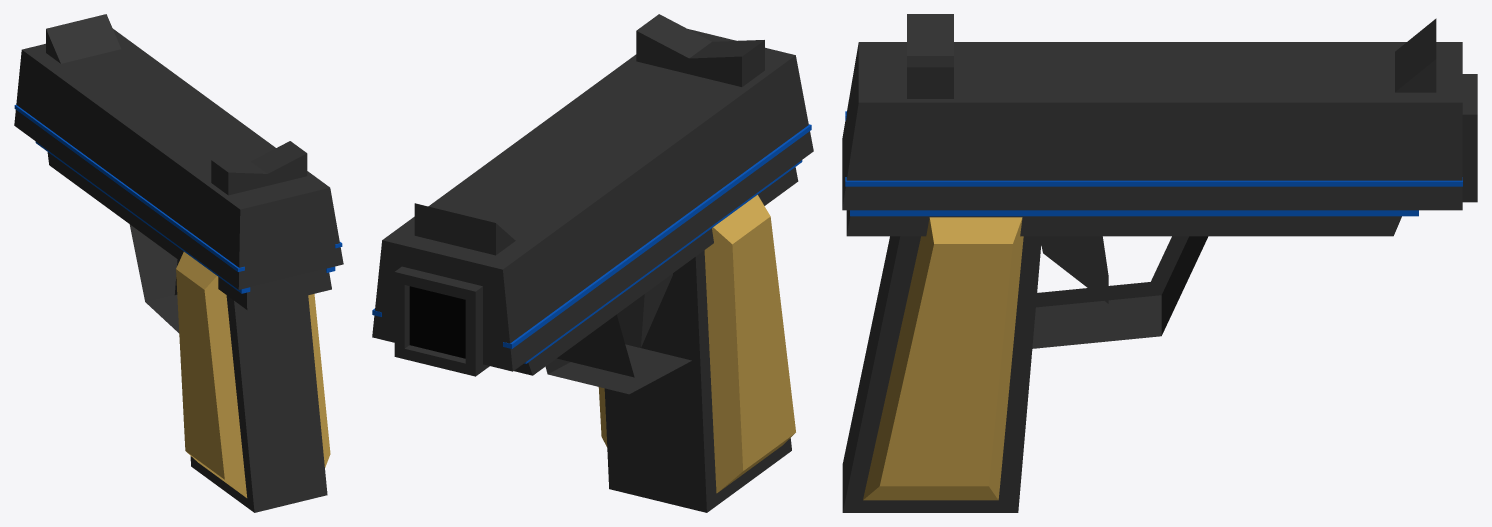
File: pistol.obj
3 views of the same model, side by side, from view 1: azimuth 30°, elevation 25°; view 2: azimuth 150°, elevation 25°; view 3: azimuth 270°, elevation 25° (orthographic). The views are drawn at different scales.
Visible parts, largest first — view 1: Cube, Куб.001, Куб.002; view 2: Cube, Куб.001, Куб, Куб.002; view 3: Cube, Куб.001, Куб.002.
Boxes of the visible parts, <box> form: Cube: <box>14,14,343,512</box>; Куб.001: <box>176,252,330,497</box>; Куб.002: <box>14,105,342,293</box>; Cube: <box>372,14,813,512</box>; Куб.001: <box>598,195,795,493</box>; Куб: <box>409,286,465,358</box>; Куб.002: <box>372,124,811,363</box>; Cube: <box>842,14,1477,512</box>; Куб.001: <box>863,217,1023,500</box>; Куб.002: <box>845,111,1462,216</box>.
Bounding box in the file's own units: 0.9716 × 2.82 × 3.62.
